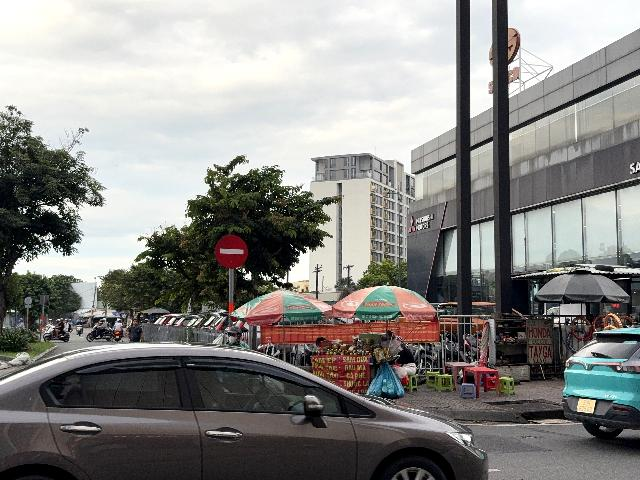cam-di-nguoc-chieu: (214, 235, 247, 269)
